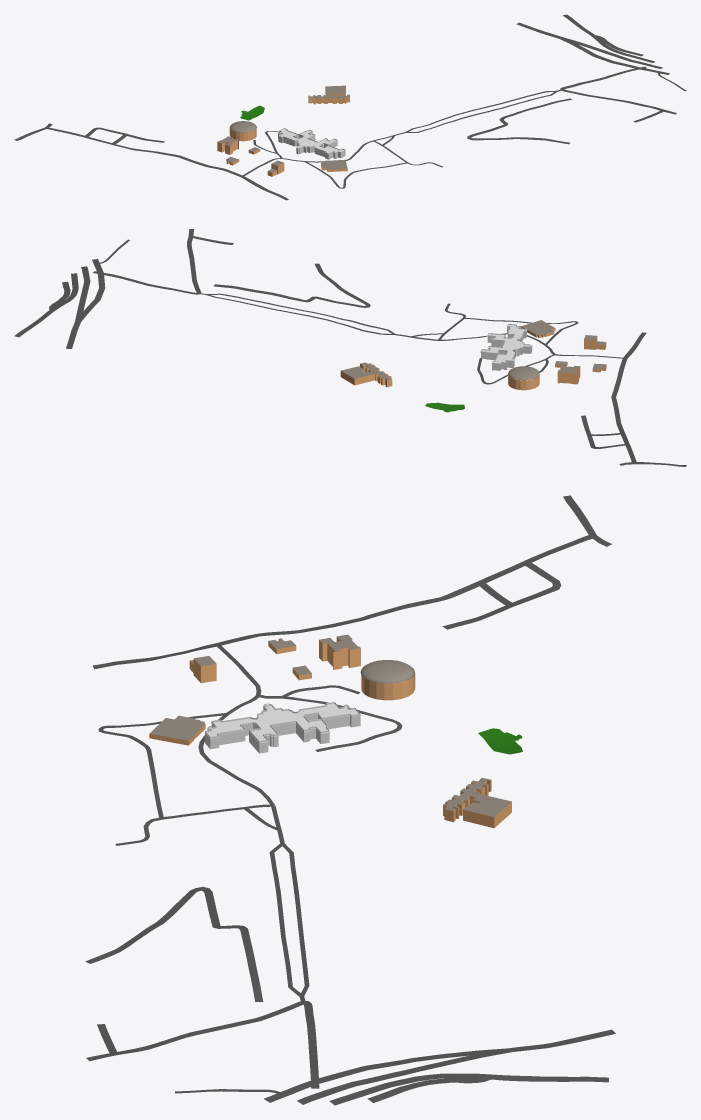
The model's file is allBuildingWithRoad.glb.
3 views of the same model, one above another, from view 1: azimuth 30°, elevation 25°; view 2: azimuth 150°, elevation 25°; view 3: azimuth 270°, elevation 25° (orthographic). The views are drawn at different scales.
Parts seen in each view (by area): view 1: map_26.osm_buildings, map_26.osm_roads_residential, map_26.osm_roads_service, map_26.osm_roads_trunk, Wall, Slab.001, map_26.osm_roads_unclassified; view 2: map_26.osm_buildings, map_26.osm_roads_residential, map_26.osm_roads_service, map_26.osm_roads_trunk, Wall, Slab.001, map_26.osm_roads_unclassified; view 3: map_26.osm_buildings, map_26.osm_roads_residential, map_26.osm_roads_service, map_26.osm_roads_trunk, Wall, Slab.001, map_26.osm_roads_unclassified.
Part boxes in pixels (box(x1,y1,x2,y2)): map_26.osm_buildings: box(217, 85, 349, 176); map_26.osm_roads_residential: box(46, 98, 664, 200); map_26.osm_roads_service: box(241, 72, 686, 188); map_26.osm_roads_trunk: box(516, 14, 669, 74); Wall: box(278, 128, 345, 159); Slab.001: box(278, 129, 345, 154); map_26.osm_roads_unclassified: box(560, 66, 676, 114); map_26.osm_buildings: box(340, 320, 606, 390); map_26.osm_roads_residential: box(190, 235, 646, 462); map_26.osm_roads_service: box(96, 239, 624, 384); map_26.osm_roads_trunk: box(14, 259, 105, 348); Wall: box(481, 324, 531, 370); Slab.001: box(480, 324, 532, 364); map_26.osm_roads_unclassified: box(93, 229, 201, 294); map_26.osm_buildings: box(149, 634, 511, 828); map_26.osm_roads_residential: box(85, 534, 593, 1054); map_26.osm_roads_service: box(98, 644, 402, 1095); map_26.osm_roads_trunk: box(264, 1029, 615, 1105); Wall: box(205, 702, 360, 752); Slab.001: box(205, 703, 360, 743); map_26.osm_roads_unclassified: box(86, 1001, 319, 1088).
Size of the model in its own units: 1147 by 47.64 by 453.
